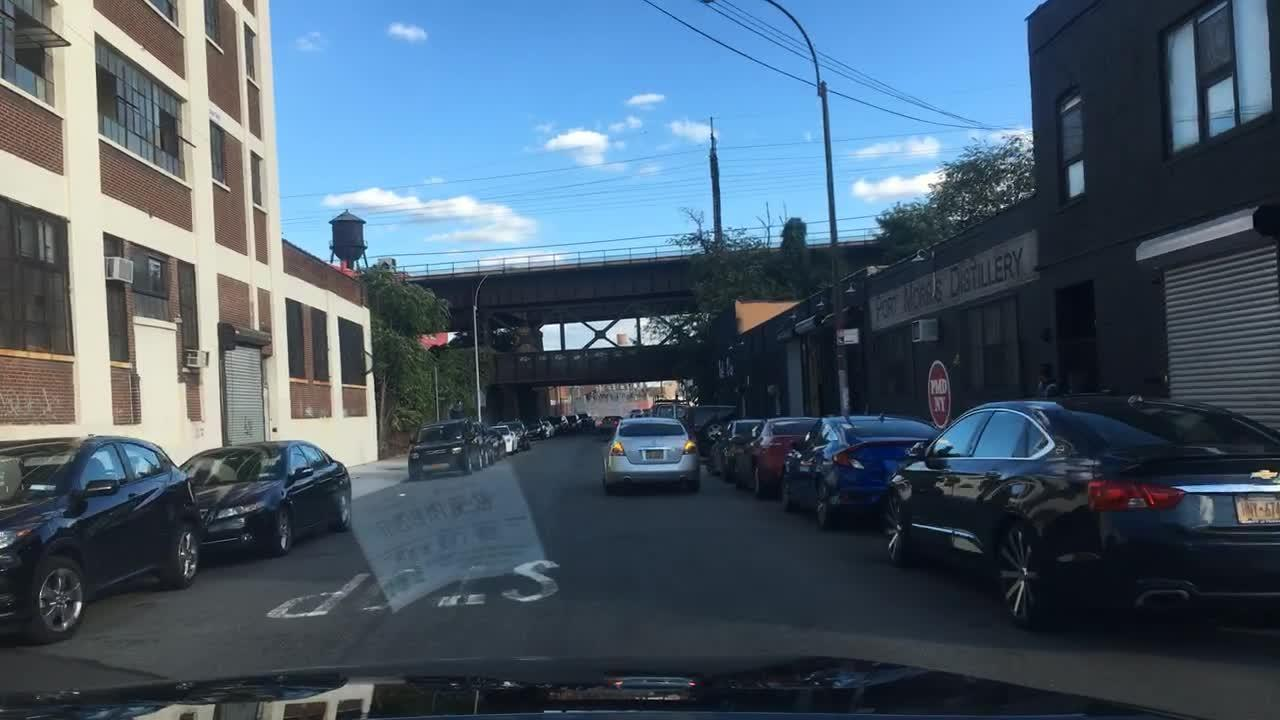chevrolet: (1238, 458, 1280, 485)
